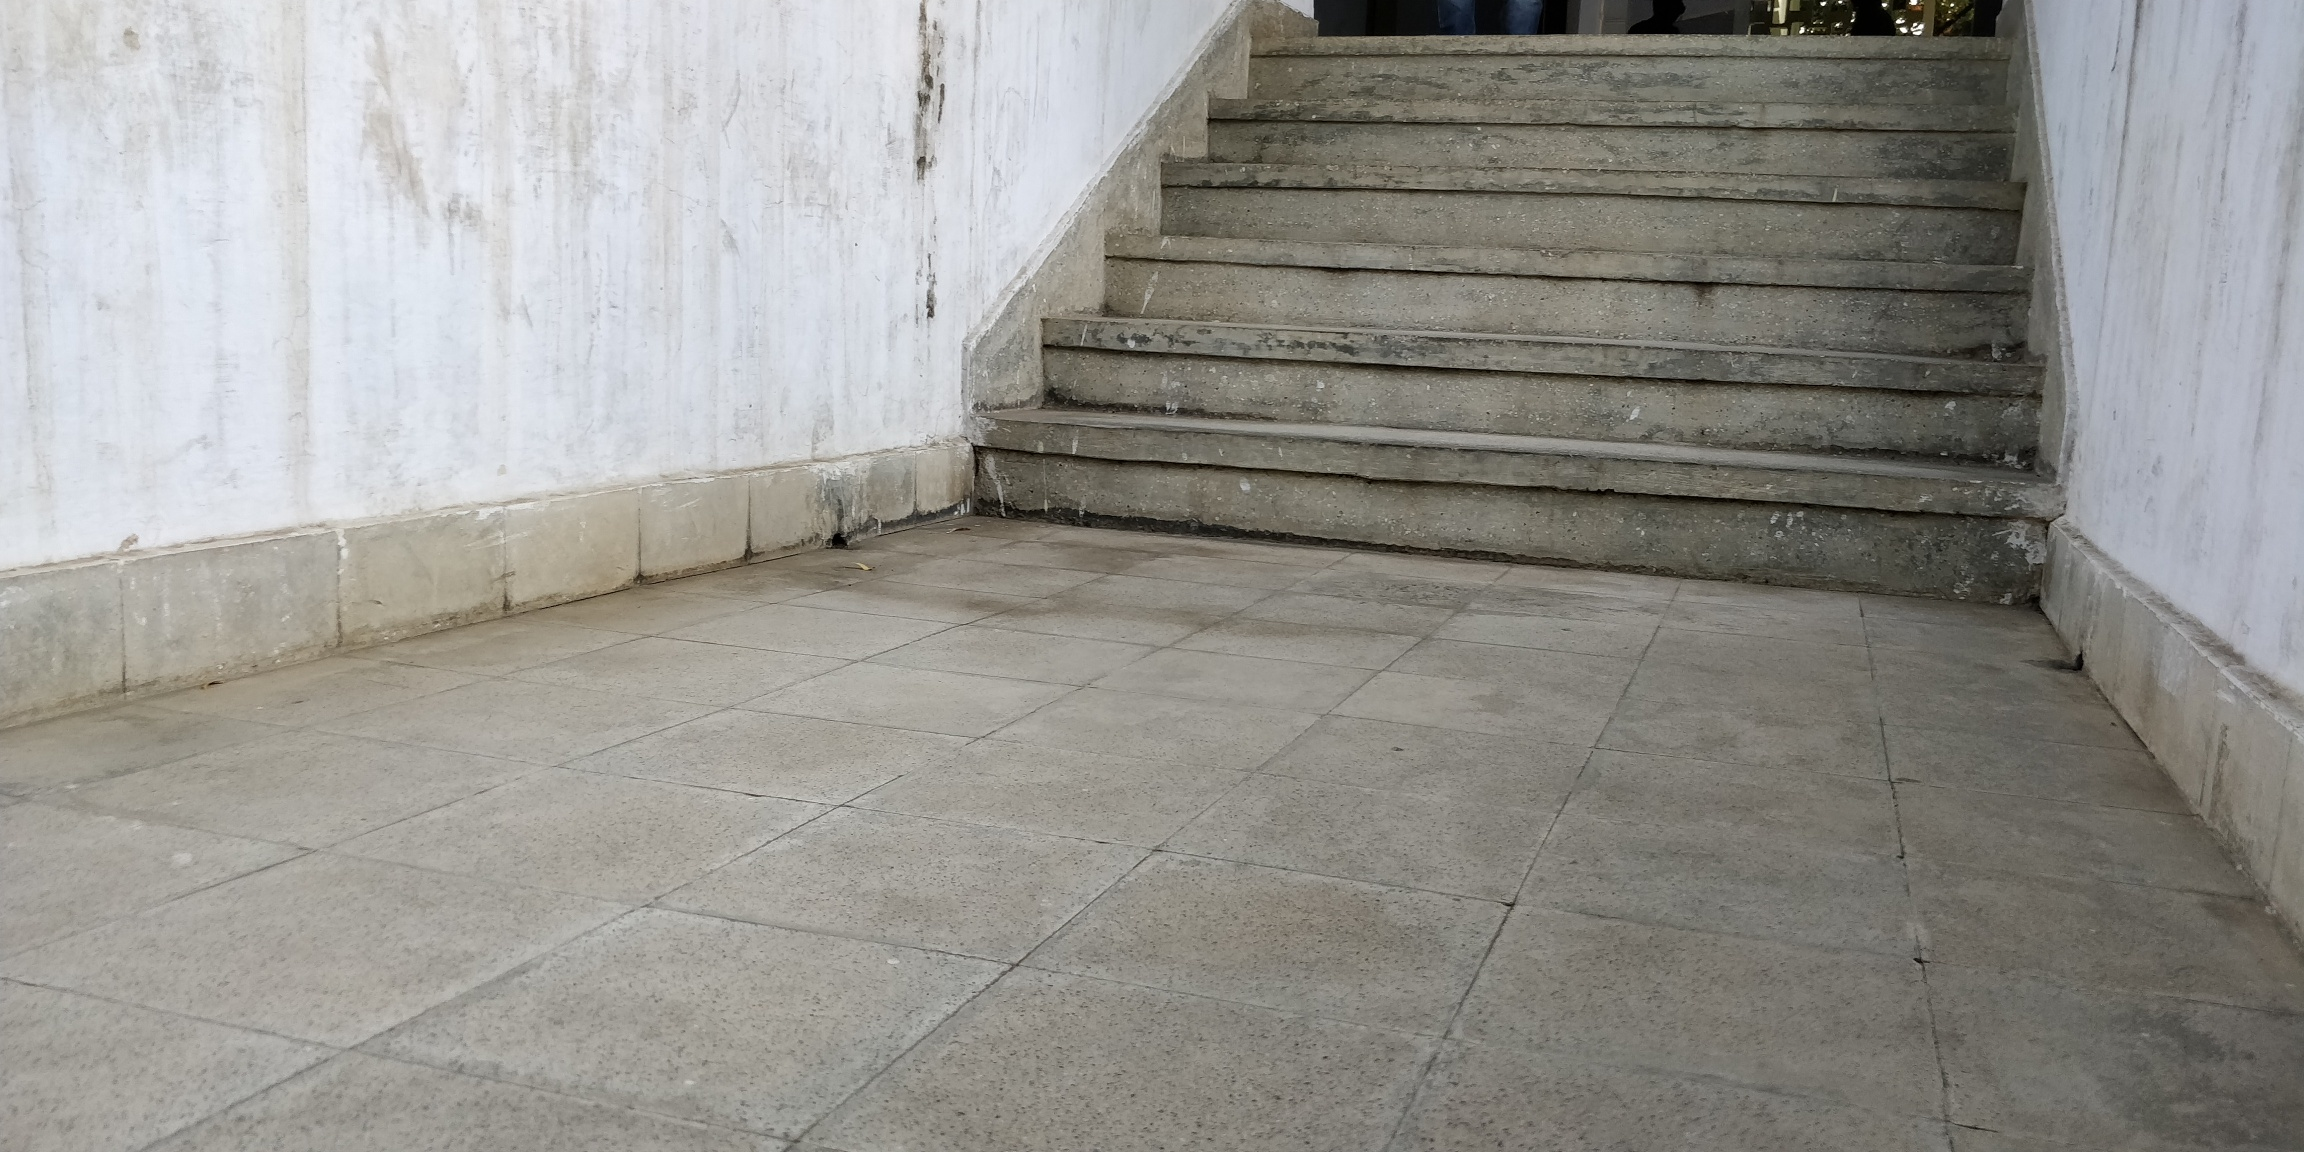stairs_up: (987, 32, 2020, 576)
